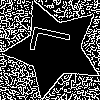L: (29, 23, 81, 61)
